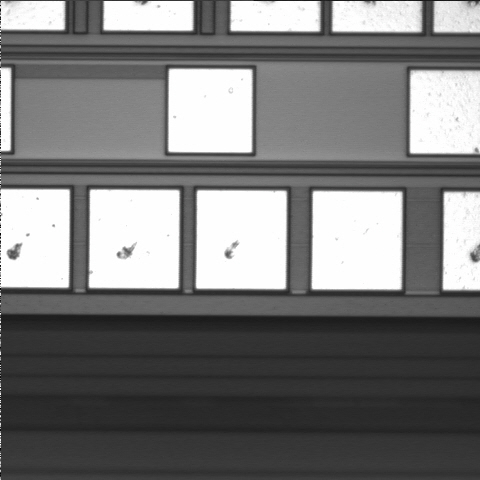pad: (196, 190, 287, 289), (89, 190, 179, 288), (312, 191, 402, 289), (168, 69, 252, 152)
